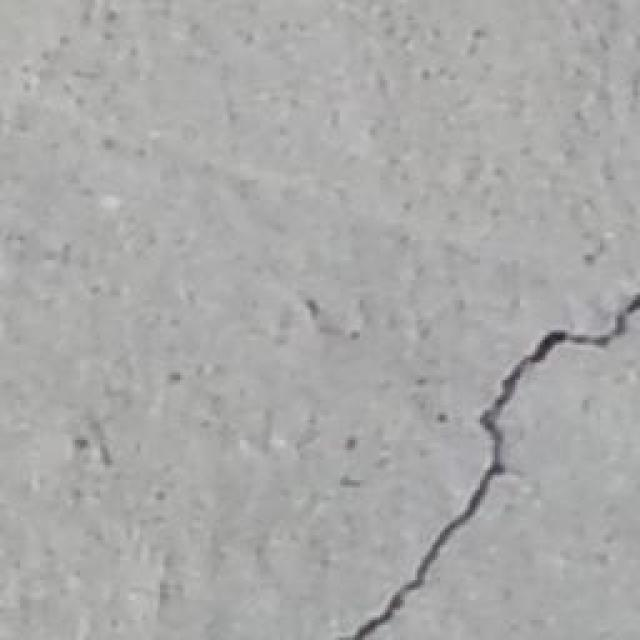concrete-crack: (338, 290, 640, 640)
